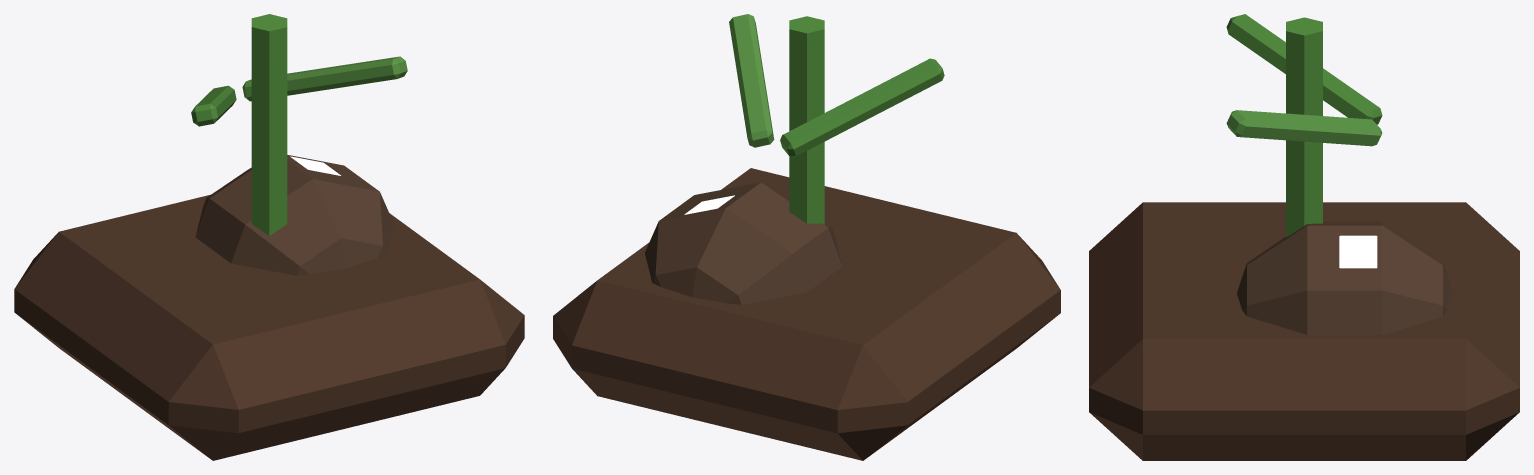
File: Sprout.glb
3 renders of one model, left to right at view 1: azimuth 30°, elevation 25°; view 2: azimuth 150°, elevation 25°; view 3: azimuth 270°, elevation 25°, orthographic. The views are drawn at different scales.
Visible parts, largest first — view 1: Body; view 2: Body; view 3: Body, Glow.
Part boxes in pixels (x1,y1,x2,y2): Body: (14,14,524,460); Body: (553,14,1060,460); Body: (1089,14,1519,460); Glow: (1339,235,1377,268).
Bounding box in the file's own units: 1.6 × 1.58 × 1.6.
